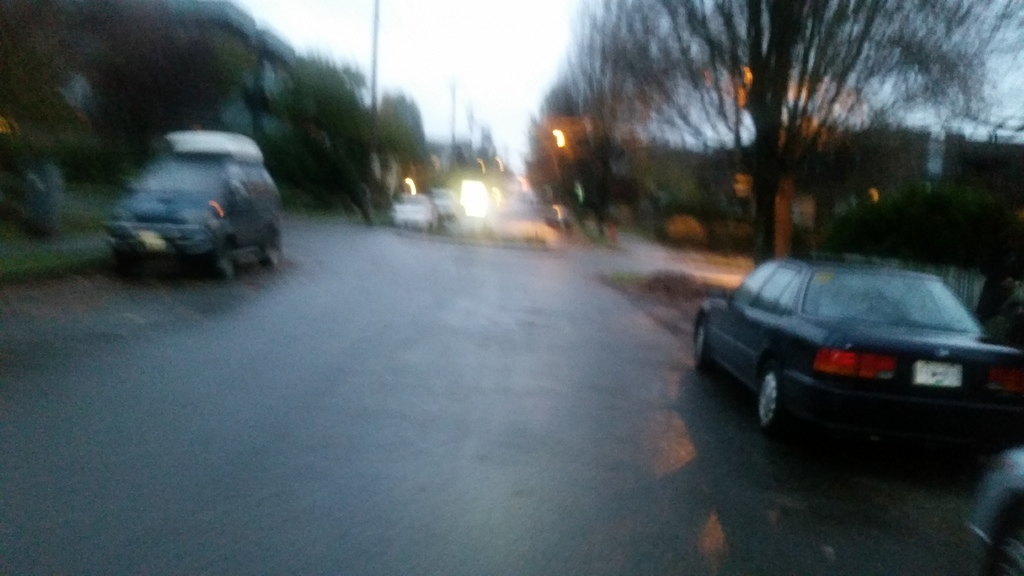Car: (686, 257, 1023, 486), (87, 127, 294, 295), (894, 446, 1023, 575), (966, 445, 1023, 575), (464, 201, 561, 248), (378, 189, 435, 231), (428, 181, 462, 218)
